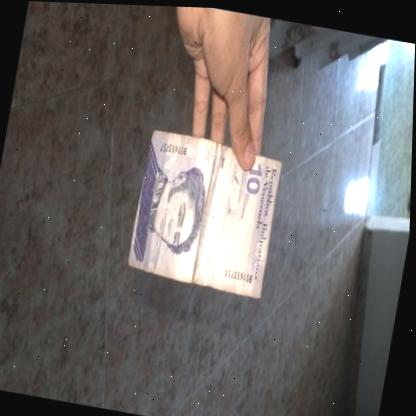ten-front-vef: (125, 127, 289, 300)
